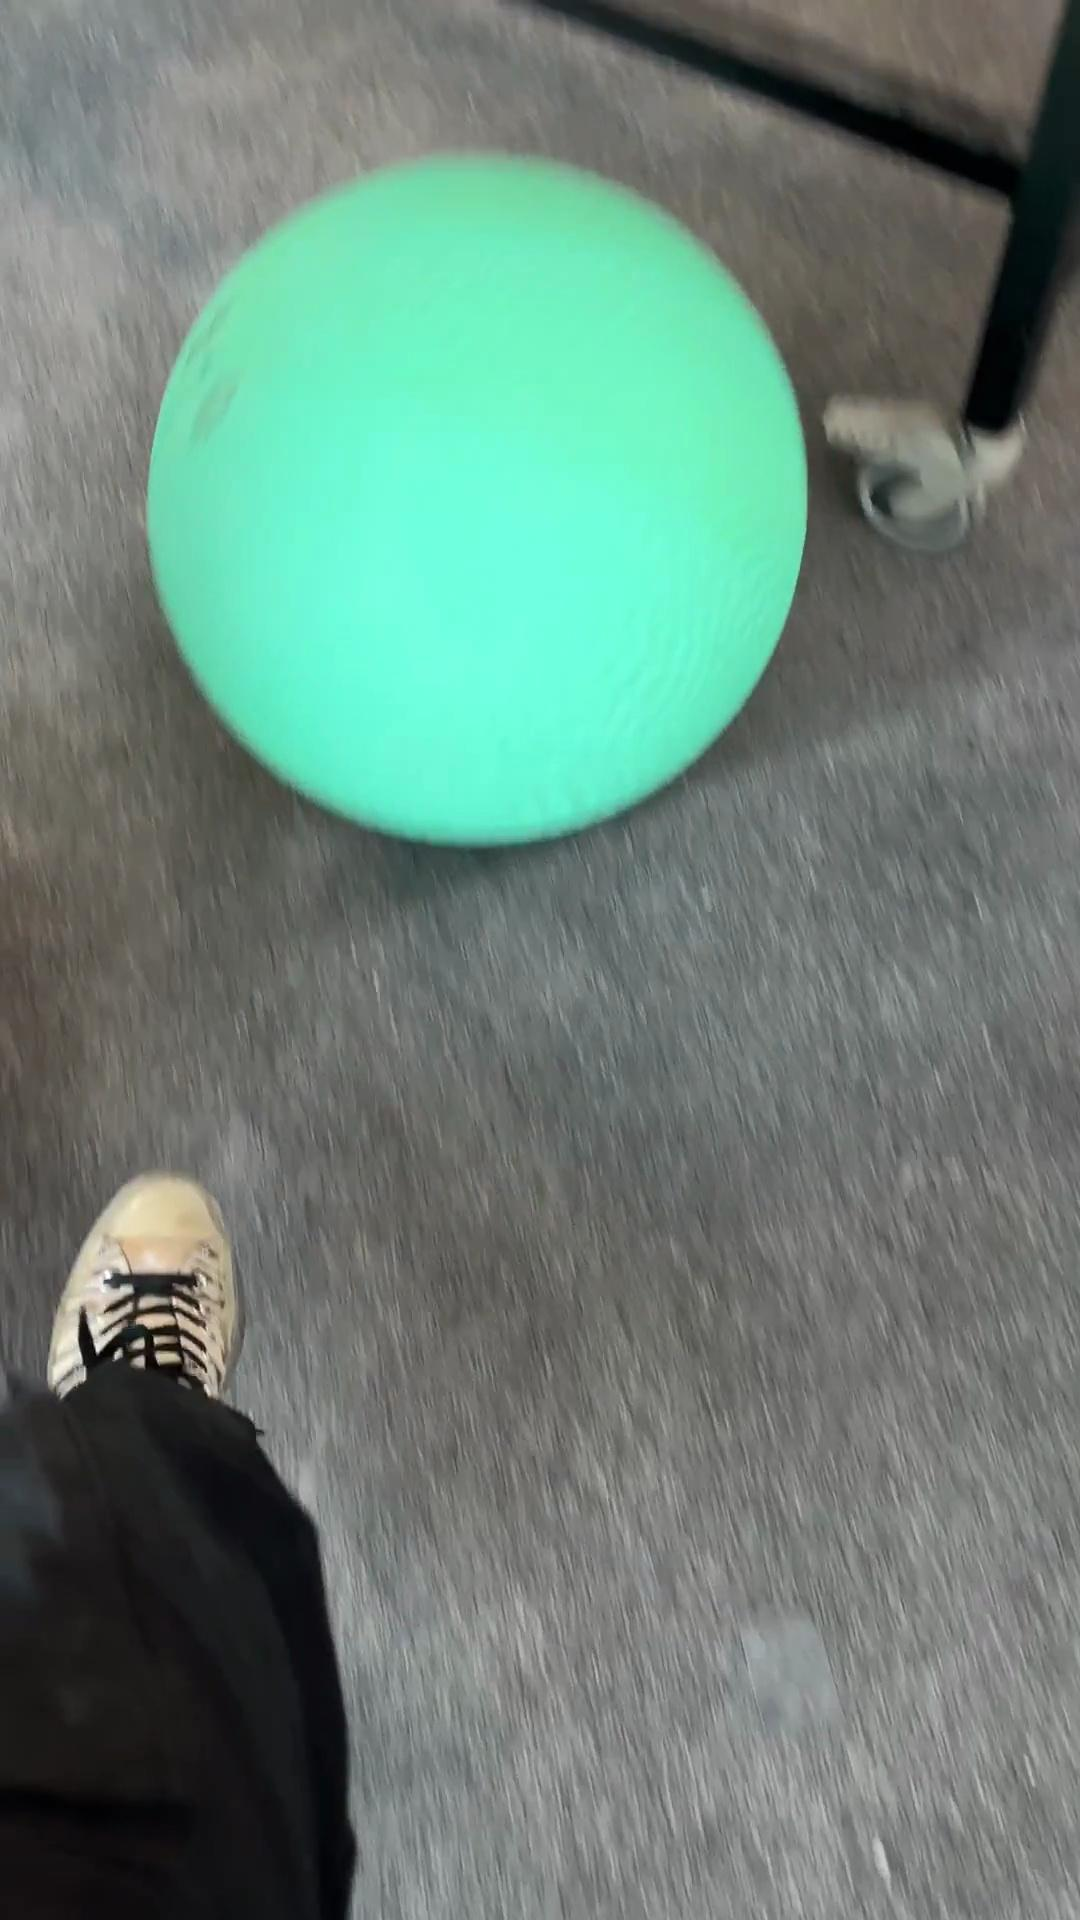ALGAE: (142, 149, 811, 851)
